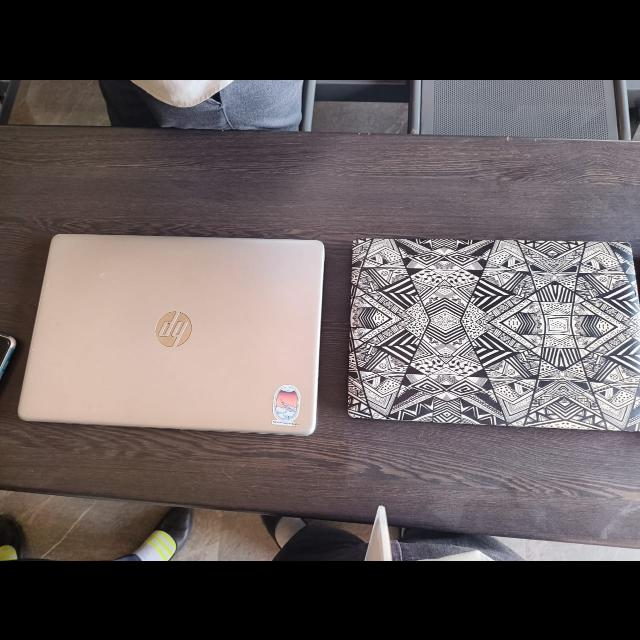laptop: (18, 218, 328, 446), (340, 222, 640, 448)
